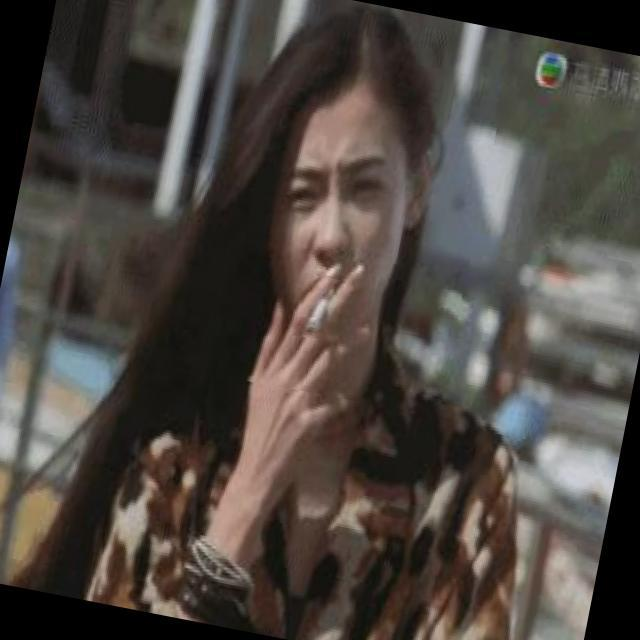cigarette: (292, 273, 346, 344)
